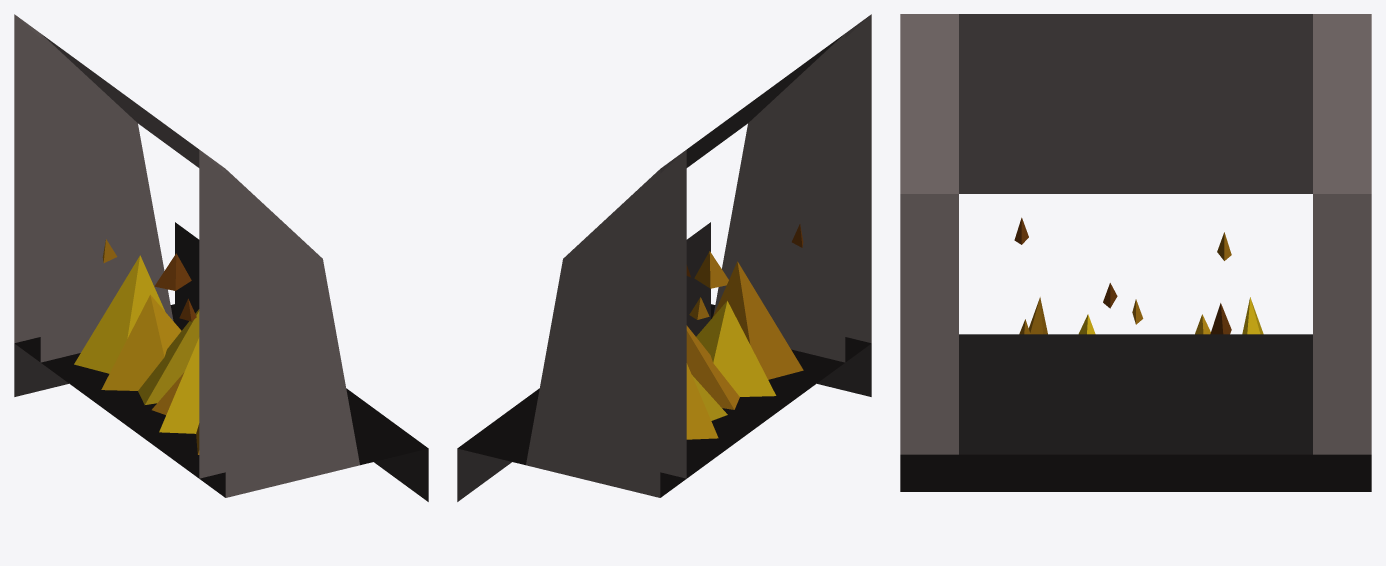
The model's file is obj_fireplace_1_0.obj.
3 views of the same model, side by side, from view 1: azimuth 30°, elevation 25°; view 2: azimuth 150°, elevation 25°; view 3: azimuth 270°, elevation 25° (orthographic). The views are drawn at different scales.
Size of the model in its own units: 0.5547 by 1 by 1.
